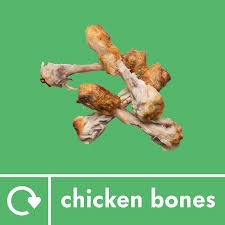kitchen_waste: (82, 20, 174, 121), (75, 79, 189, 152), (35, 49, 176, 94)
